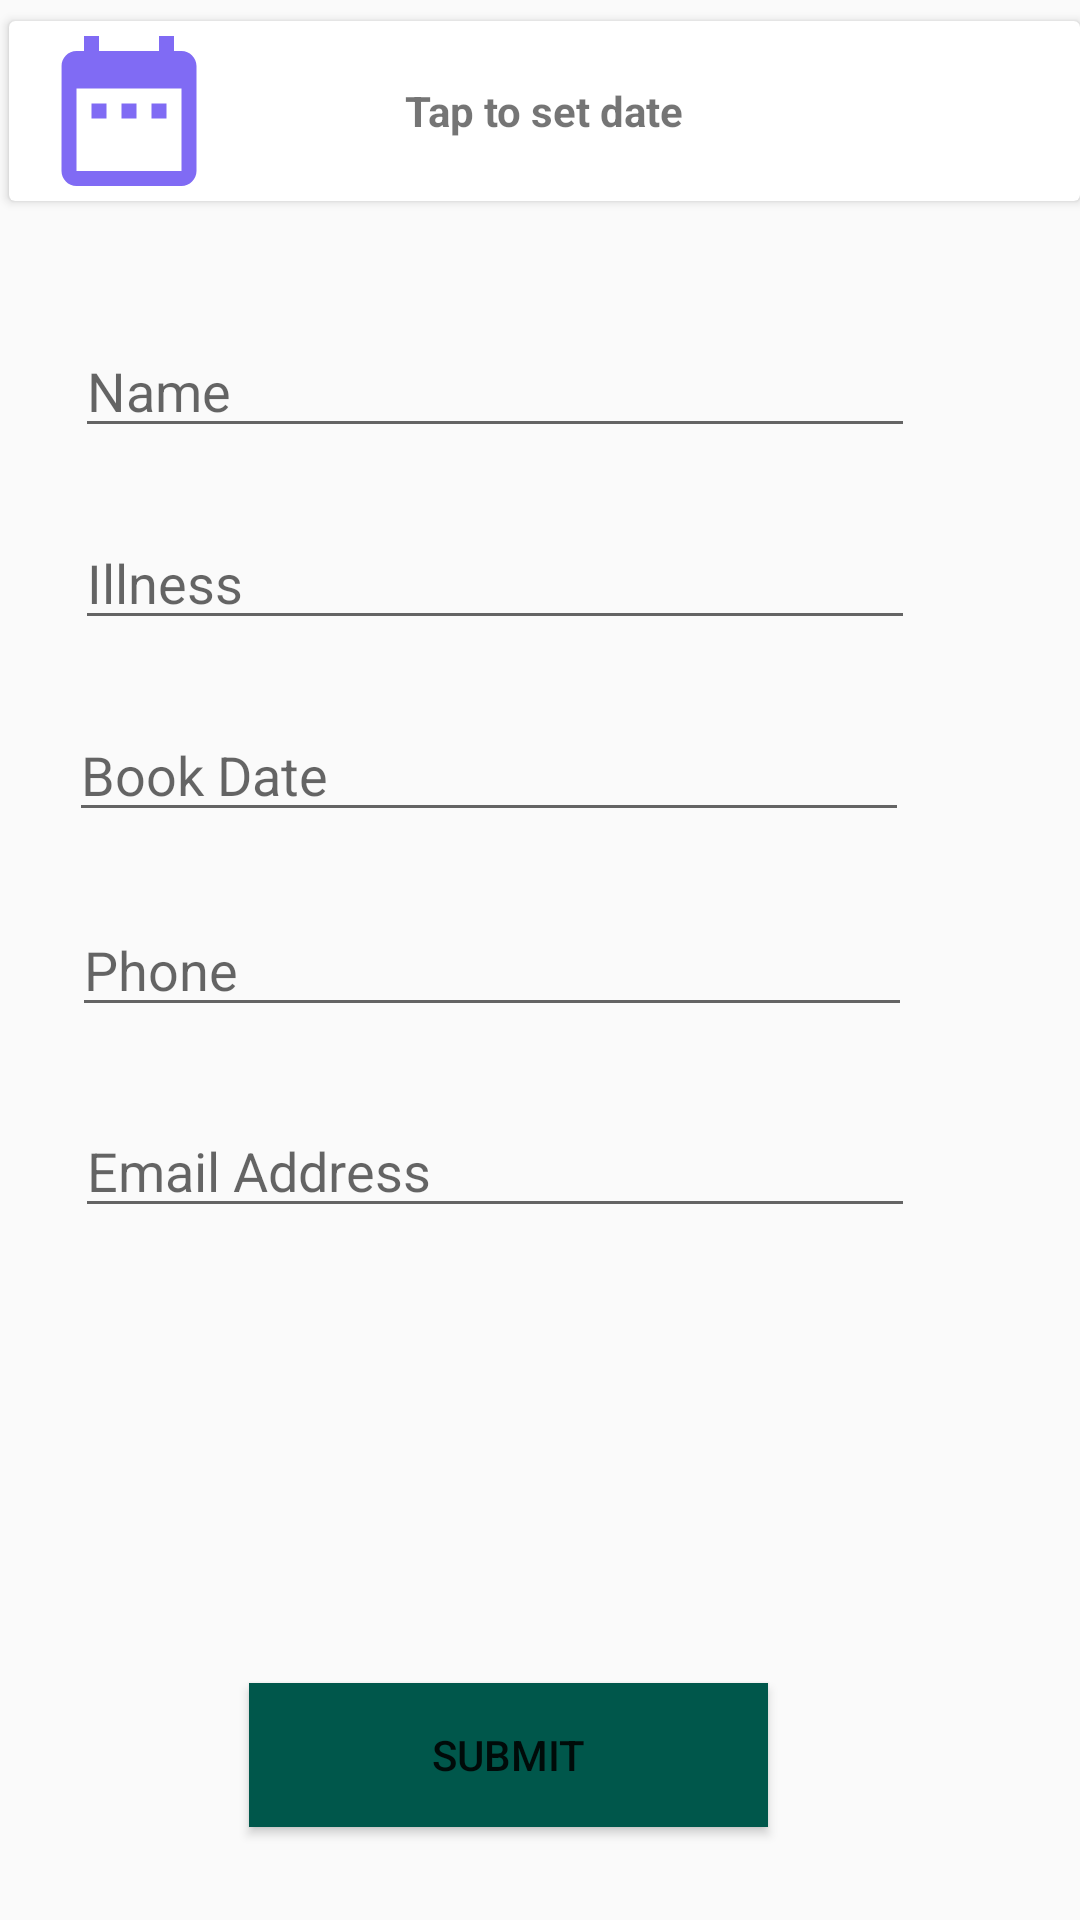

Point at icon controls on the screen. Image size 1080x1920, points as [x,y].
date range: [129,111]
